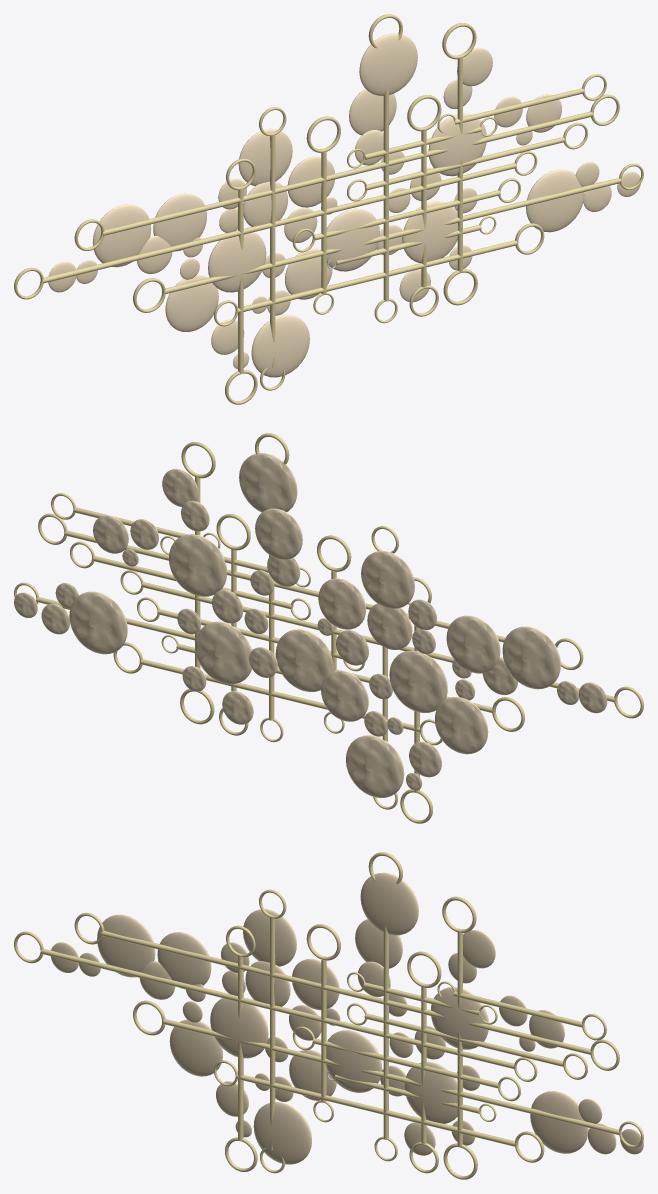
Rendered from decor3.fbx.
3 renders of one model, top to bottom at view 1: azimuth 30°, elevation 25°; view 2: azimuth 150°, elevation 25°; view 3: azimuth 330°, elevation 25°, orthographic.
Visible parts, largest first — view 1: Cylinder.005, Sphere, Cylinder.007, Sphere.011, Sphere.006, Sphere.009, Sphere.008, Sphere.012, Sphere.007, Cylinder.002, Sphere.003, Sphere.018 (+28 smaller); view 2: Sphere.006, Sphere.012, Sphere.011, Sphere.003, Sphere.009, Sphere.007, Sphere.008, Sphere, Sphere.019, Sphere.013, Sphere.018, Sphere.031 (+23 smaller); view 3: Cylinder.005, Sphere, Sphere.011, Cylinder.007, Sphere.006, Sphere.009, Sphere.008, Sphere.012, Cylinder.002, Sphere.003, Sphere.007, Sphere.018 (+30 smaller).
Boxes of the visible parts, bbox=[...] form: Cylinder.005: bbox=[43, 163, 516, 283]; Sphere: bbox=[359, 33, 417, 95]; Cylinder.007: bbox=[103, 111, 593, 235]; Sphere.011: bbox=[251, 314, 309, 377]; Sphere.006: bbox=[526, 169, 584, 232]; Sphere.009: bbox=[208, 232, 266, 292]; Sphere.008: bbox=[326, 208, 379, 271]; Sphere.012: bbox=[93, 204, 151, 267]; Sphere.007: bbox=[402, 201, 458, 263]; Cylinder.002: bbox=[165, 178, 621, 293]; Sphere.003: bbox=[428, 113, 486, 176]; Sphere.018: bbox=[165, 274, 218, 331]; Sphere.006: bbox=[69, 591, 127, 654]; Sphere.012: bbox=[502, 626, 560, 689]; Sphere.011: bbox=[346, 735, 404, 797]; Sphere.003: bbox=[169, 534, 227, 596]; Sphere.009: bbox=[389, 650, 447, 712]; Sphere.007: bbox=[195, 621, 251, 684]; Sphere.008: bbox=[275, 629, 333, 692]; Sphere: bbox=[239, 453, 297, 512]; Sphere.019: bbox=[361, 551, 414, 608]; Sphere.013: bbox=[446, 615, 500, 673]; Sphere.018: bbox=[435, 697, 488, 754]; Sphere.031: bbox=[255, 508, 302, 559]; Cylinder.005: bbox=[40, 949, 514, 1068]; Sphere: bbox=[360, 872, 418, 935]; Sphere.011: bbox=[253, 1102, 311, 1164]; Cylinder.007: bbox=[101, 930, 590, 1054]; Sphere.006: bbox=[530, 1091, 588, 1153]; Sphere.009: bbox=[210, 998, 268, 1058]; Sphere.008: bbox=[326, 1030, 382, 1092]; Sphere.012: bbox=[97, 914, 155, 977]; Cylinder.002: bbox=[163, 1019, 619, 1134]; Sphere.003: bbox=[431, 987, 488, 1049]; Sphere.007: bbox=[404, 1061, 457, 1123]; Sphere.018: bbox=[169, 1019, 222, 1076].
Bounding box in the file's own units: 854 × 459 × 18.4.
